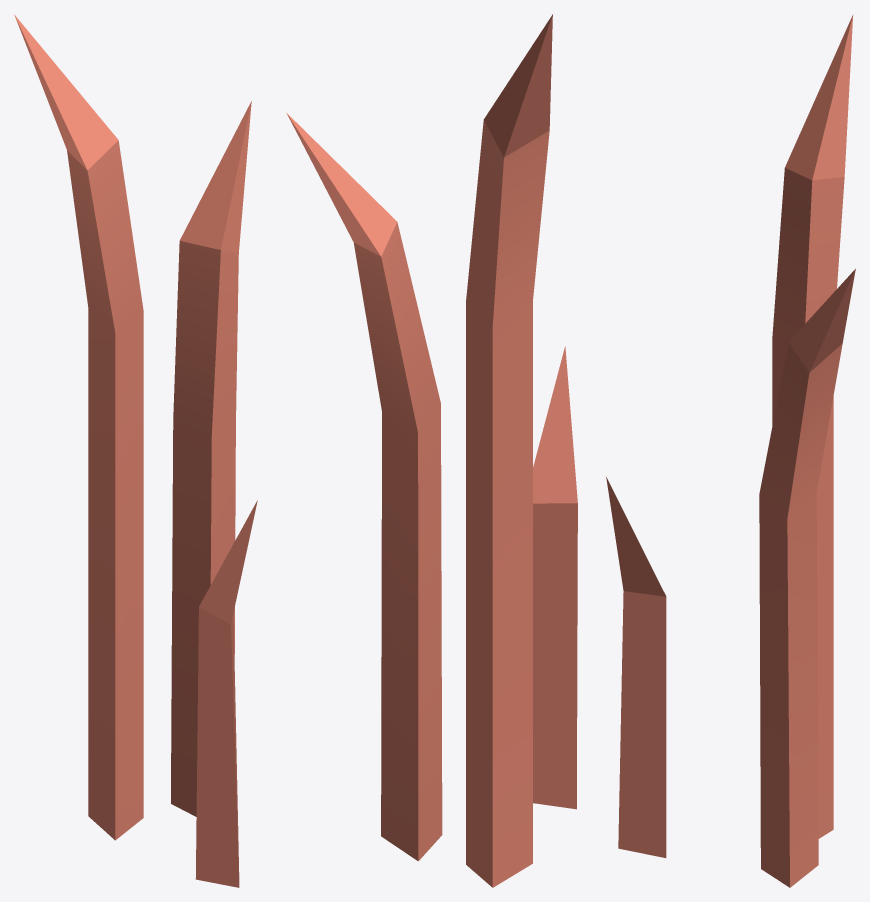
File: SM_Prop_Plant_Wheat_Optimised_01.fbx
3 renders of one model, left to right at view 1: azimuth 30°, elevation 25°; view 2: azimuth 150°, elevation 25°; view 3: azimuth 270°, elevation 25°, orthographic. The views are drawn at different scales.
Parts seen in each view (by area): view 1: SM_Prop_Plant_Wheat_Optimised_01; view 2: SM_Prop_Plant_Wheat_Optimised_01; view 3: SM_Prop_Plant_Wheat_Optimised_01.
Boxes of the visible parts, left/top/right/bottom form: SM_Prop_Plant_Wheat_Optimised_01: left=14, top=14, right=257, bottom=887; SM_Prop_Plant_Wheat_Optimised_01: left=286, top=14, right=577, bottom=887; SM_Prop_Plant_Wheat_Optimised_01: left=606, top=14, right=855, bottom=887.
Bounding box in the file's own units: 0.1922 × 0.6227 × 0.1795.
Materials: 1 (1 with a texture image).
